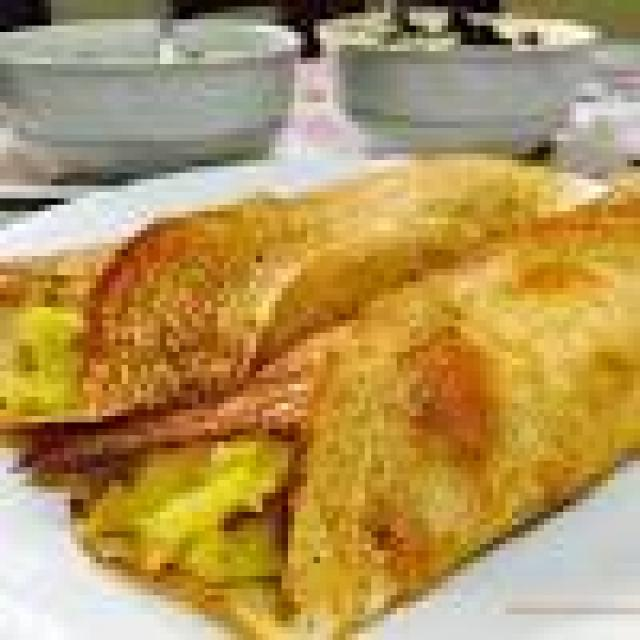chutney: (307, 0, 602, 51)
dosa: (83, 185, 634, 620), (0, 141, 557, 435)
